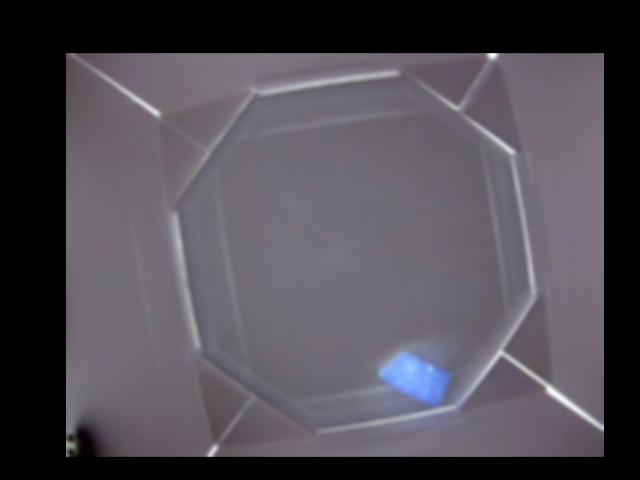Potato: (378, 350, 452, 406)
